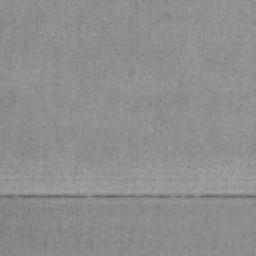Welding line: (0, 194, 256, 199)
